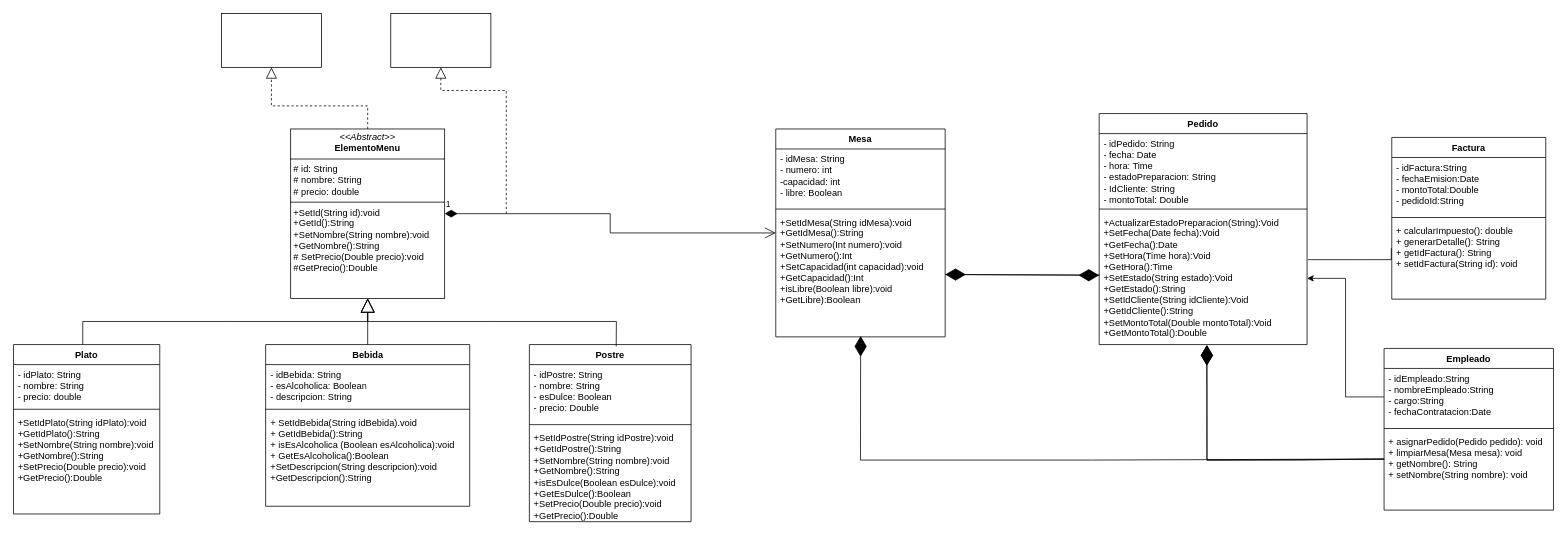
Some shapes in this 1567 by 537 pixel diagram are drawn without their labels. Here are the shapes that lost their labels. From the top down, the box of each, then its label:
(221, 13, 321, 67): <<Interface>> Preparable +preparar()
(390, 13, 491, 67): <<Interface>> Servible + Servir()
